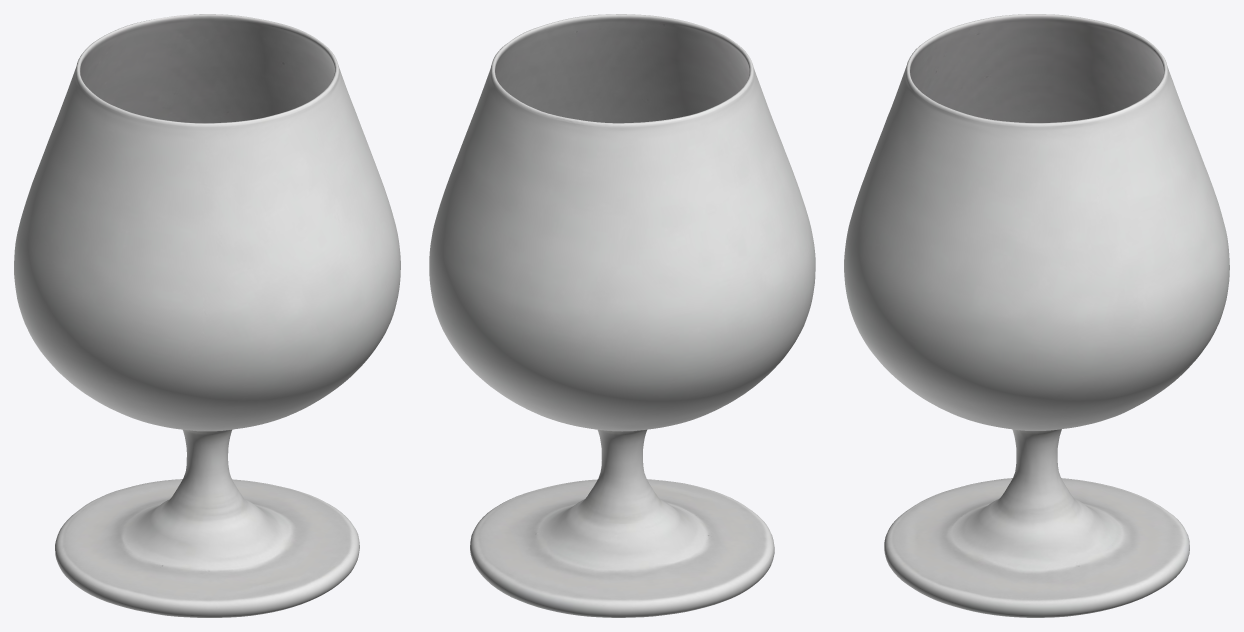
The model's file is model_brandy_snifter.glb.
3 renders of one model, left to right at view 1: azimuth 30°, elevation 25°; view 2: azimuth 150°, elevation 25°; view 3: azimuth 270°, elevation 25°, orthographic.
Visible parts, largest first — view 1: tripo_node_b7de0c65-e53d-44f5-ad09-d4a5f33368f4; view 2: tripo_node_b7de0c65-e53d-44f5-ad09-d4a5f33368f4; view 3: tripo_node_b7de0c65-e53d-44f5-ad09-d4a5f33368f4.
Part boxes in pixels (x1=…): tripo_node_b7de0c65-e53d-44f5-ad09-d4a5f33368f4: x1=14, y1=14, x2=400, y2=617; tripo_node_b7de0c65-e53d-44f5-ad09-d4a5f33368f4: x1=429, y1=14, x2=815, y2=617; tripo_node_b7de0c65-e53d-44f5-ad09-d4a5f33368f4: x1=844, y1=14, x2=1229, y2=617.
Bounding box in the file's own units: 0.7161 × 0.9993 × 0.7156.
1 material, 1 textured.
